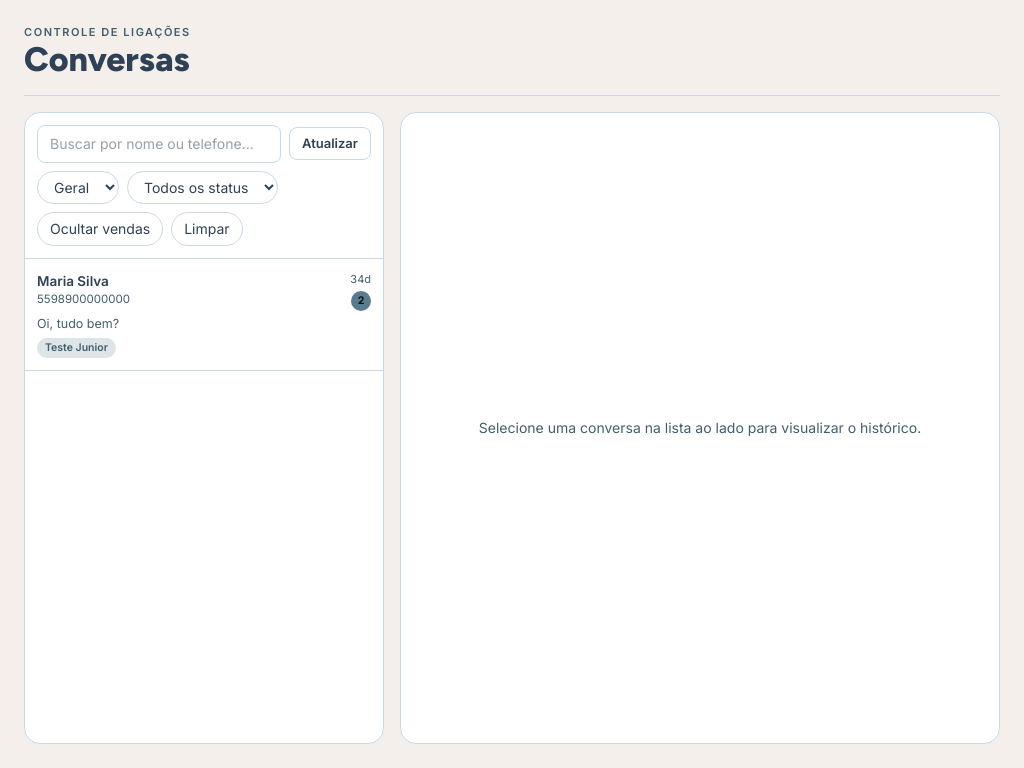
ConversasPage — painel de chat › clicar num item carrega e renderiza o histórico, zerando não lidas localmente
Click the text "Maria Silva" at (73, 280), box [37,272,109,288]
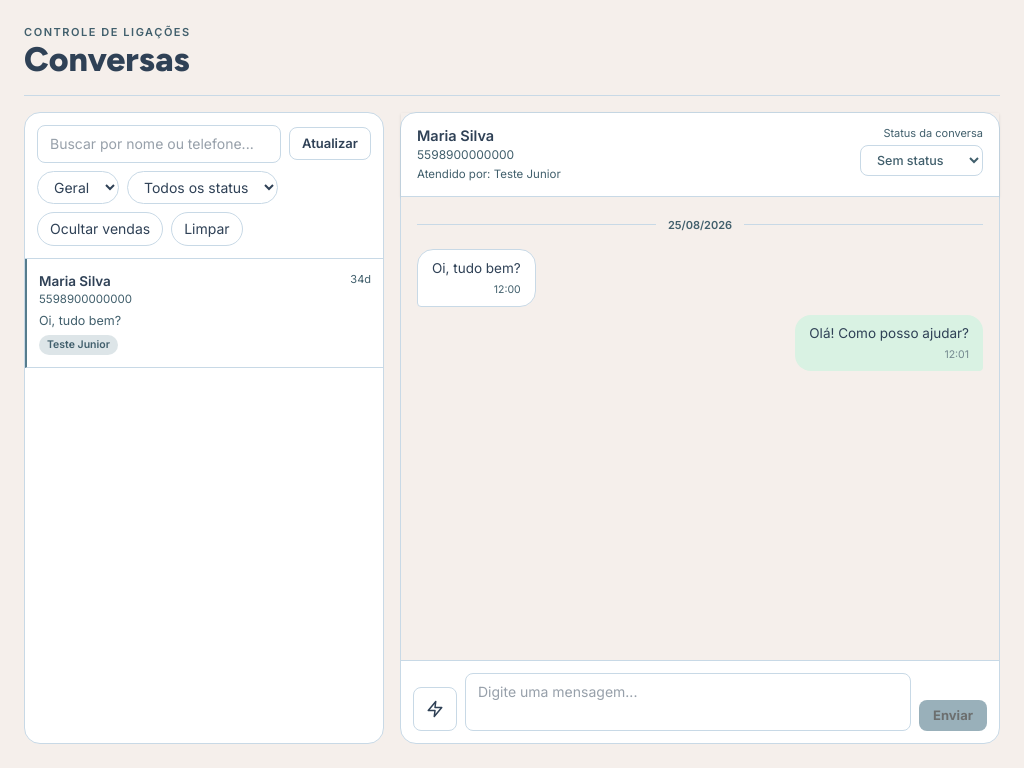
Expected: the 2nd text "Oi, tudo bem?" is shown, [39,313,121,328]
Now the text "Olá! Como posso ajudar?" is shown, box [809,323,969,343]
